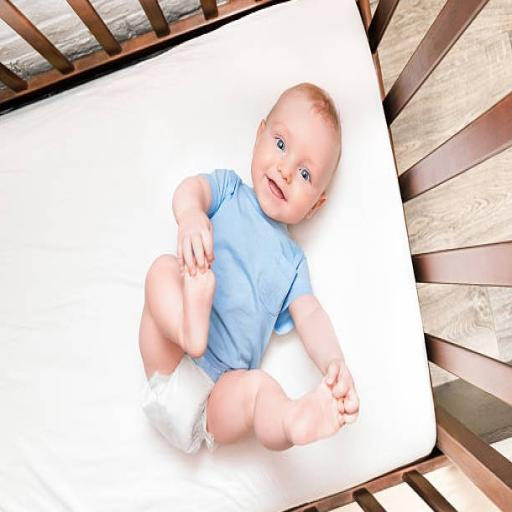baby: (140, 84, 359, 453)
crib: (0, 0, 511, 510)
